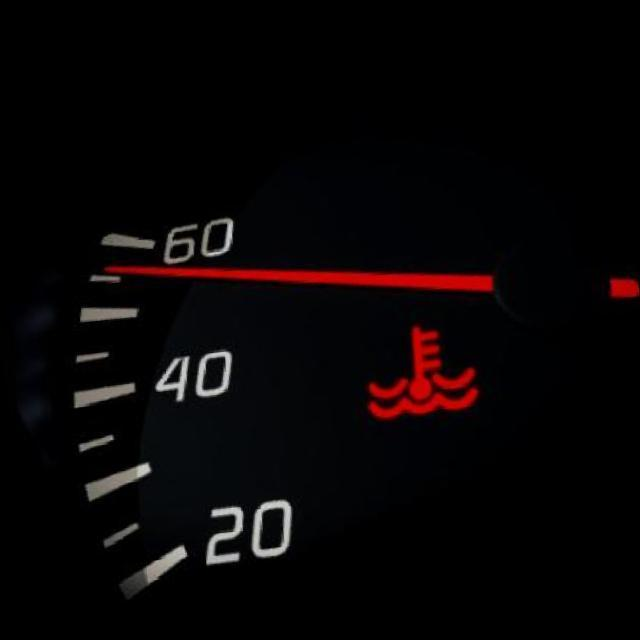Engine cooling system: (328, 291, 494, 448)
